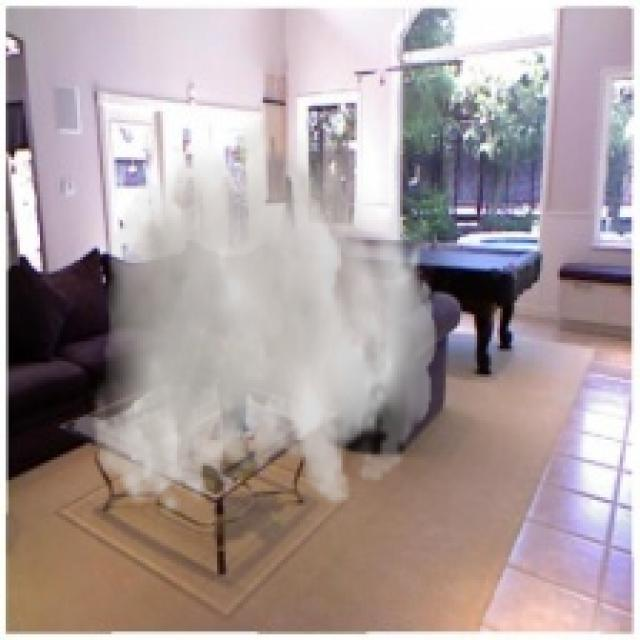smoke: (92, 94, 437, 517)
